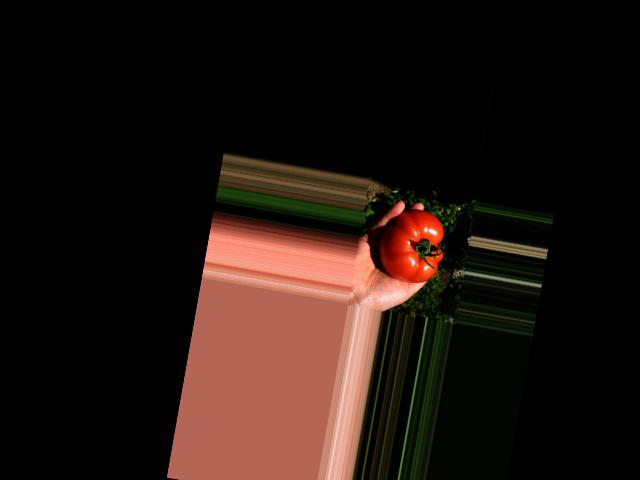tomato: (374, 203, 449, 286)
